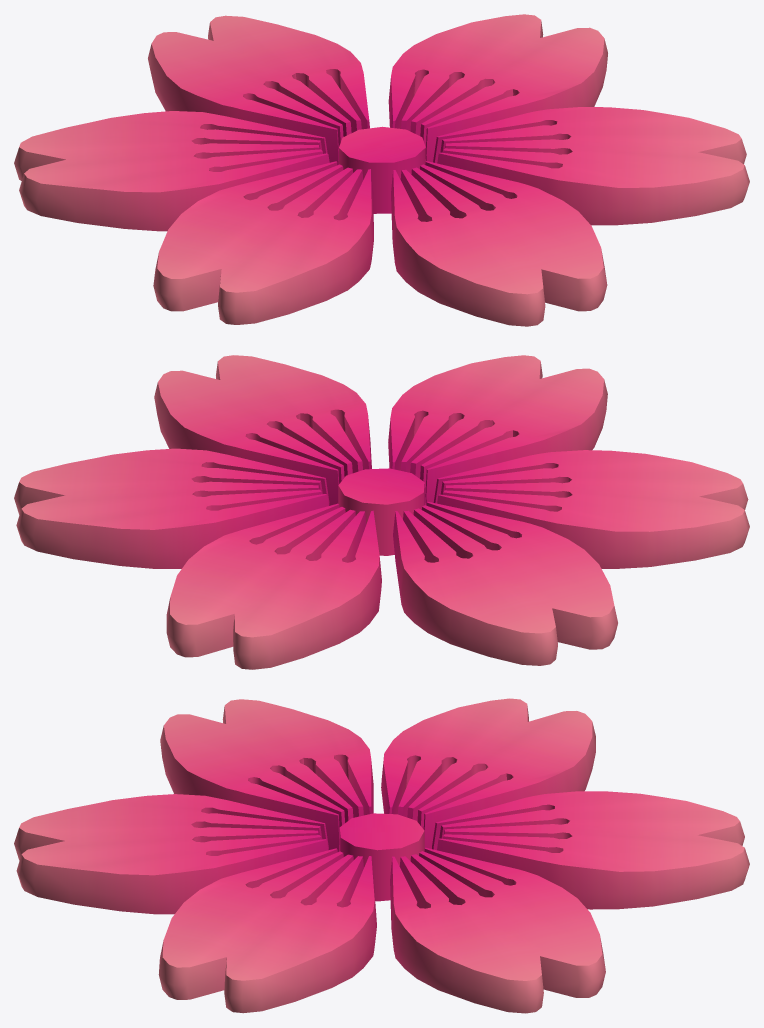
The model's file is Center pink.fbx.
3 renders of one model, top to bottom at view 1: azimuth 30°, elevation 25°; view 2: azimuth 150°, elevation 25°; view 3: azimuth 270°, elevation 25°, orthographic.
Visible parts, largest first — view 1: Cylinder004.007; view 2: Cylinder004.007; view 3: Cylinder004.007.
Part boxes in pixels (x1,y1,x2,y2): Cylinder004.007: (14,14,749,326); Cylinder004.007: (14,355,749,669); Cylinder004.007: (14,698,749,1013).
Bounding box in the file's own units: 29.68 × 2.47 × 32.19.
1 material, 1 textured.
